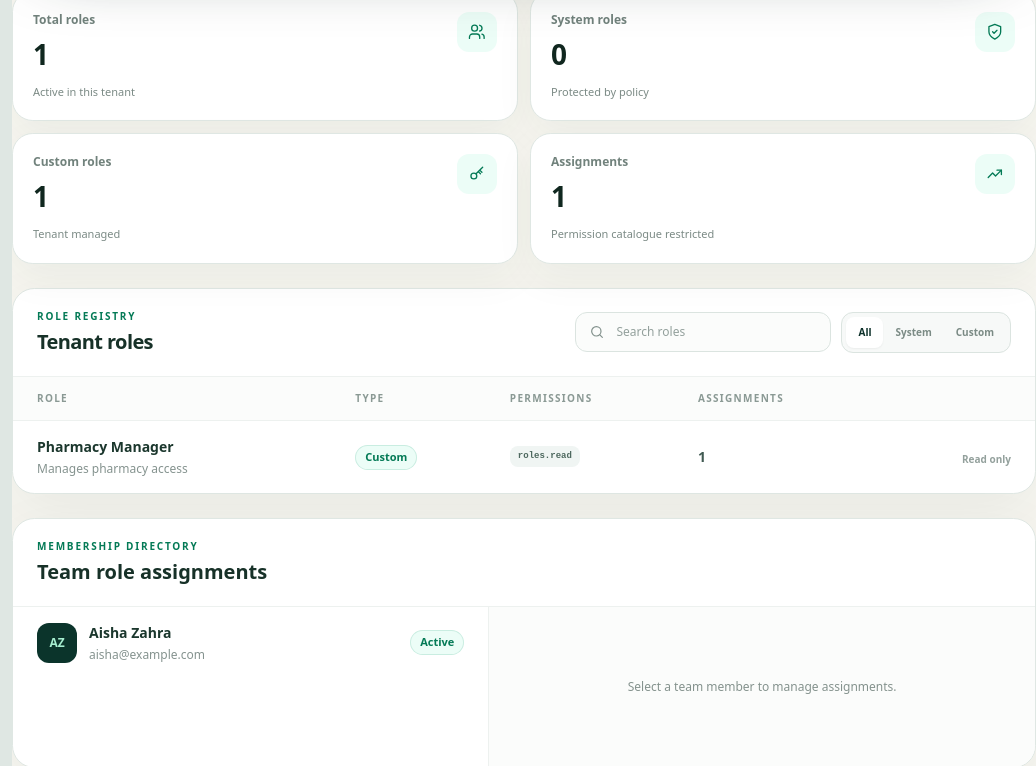
Scenario: TeamAccessWorkspace permission-aware interactions › shows suspend and revoke controls only with effective membership-management permission
(page scrolled)
Click the button "AZ Aisha Zahra aisha@example.com Active": (57, 642) x1=13 y1=606 x2=488 y2=678
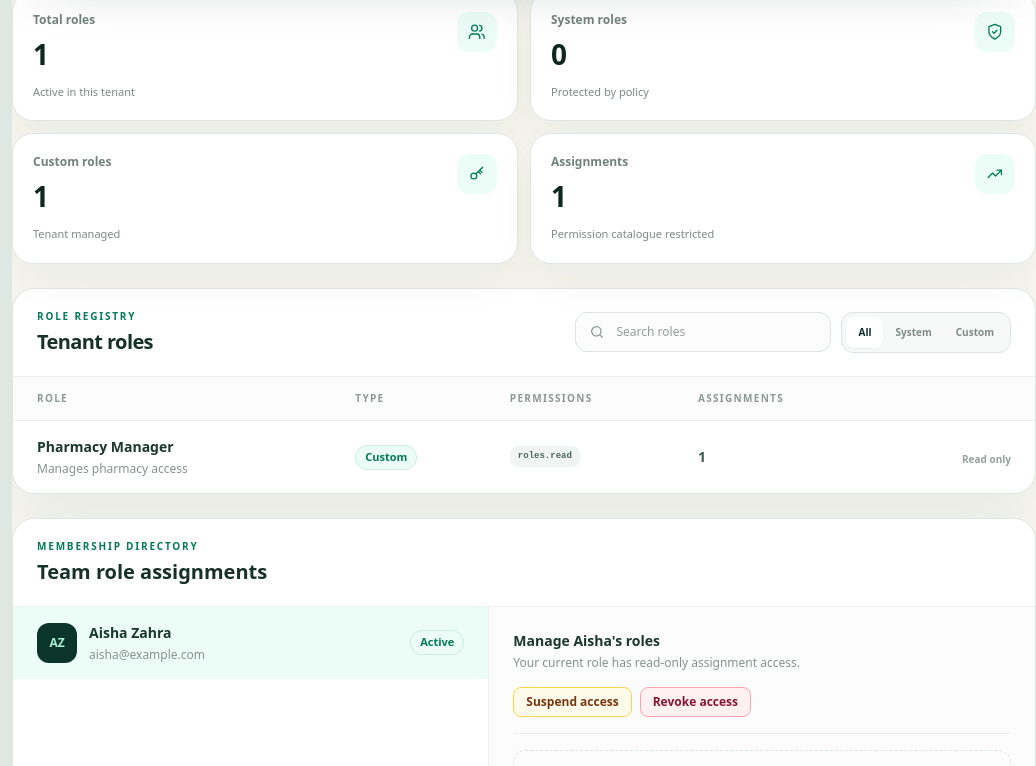
Check: the button "Suspend access" is shown, box x1=513 y1=686 x2=632 y2=716
Check: the button "Revoke access" is shown, box x1=640 y1=686 x2=751 y2=716
